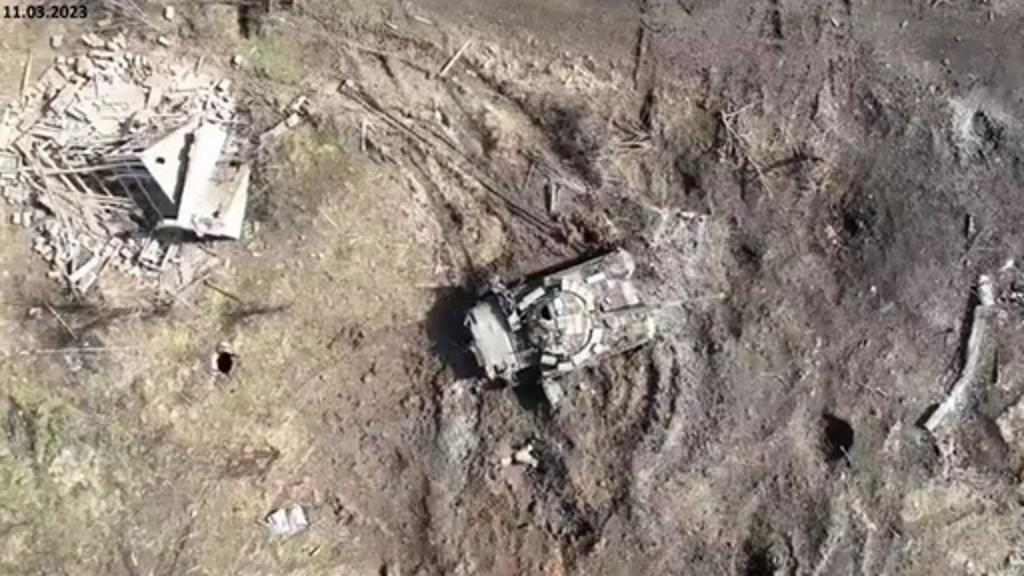TANK: (460, 240, 730, 406)
